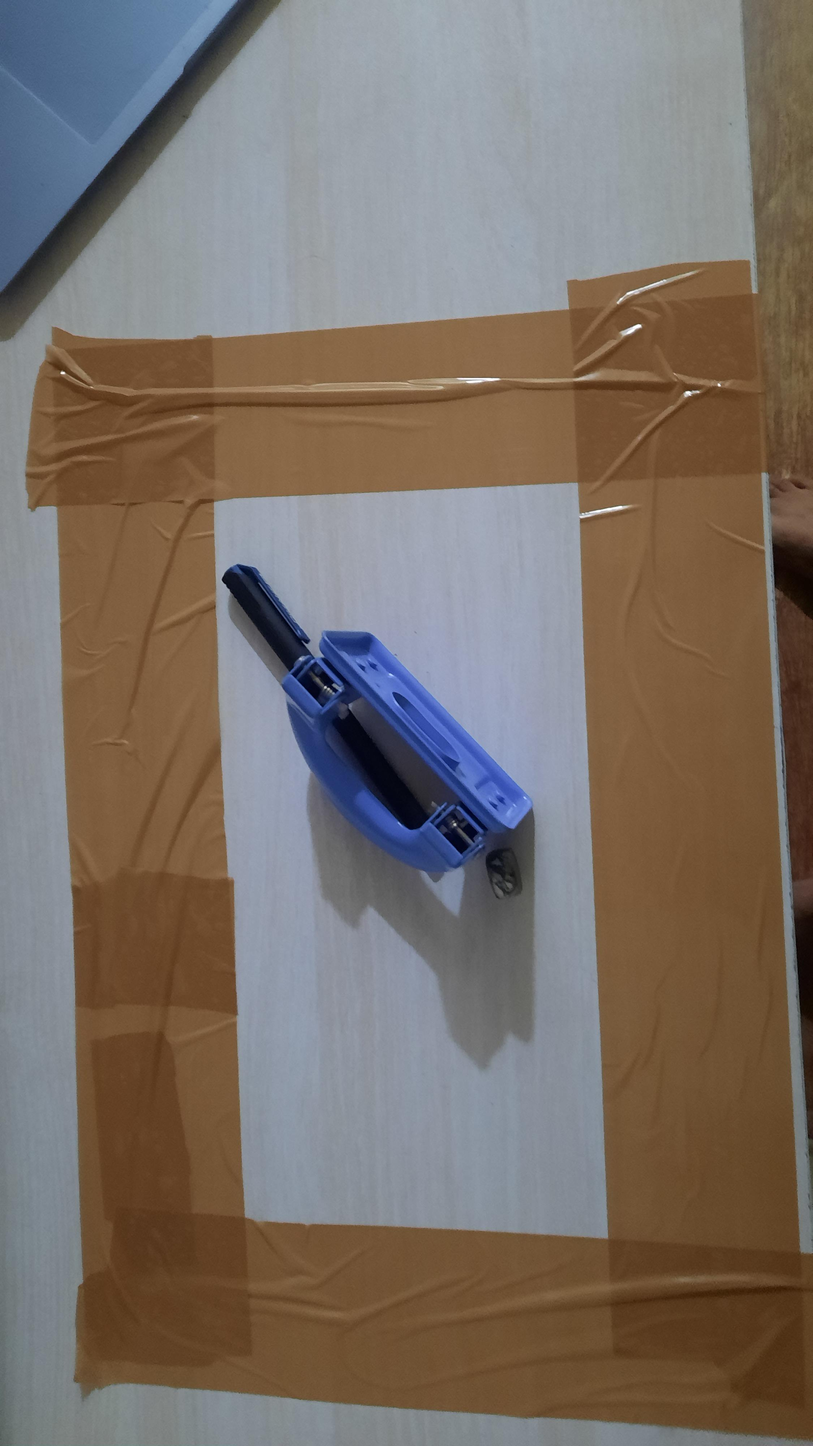Pen: (222, 564, 316, 684)
Punch: (281, 628, 534, 902)
